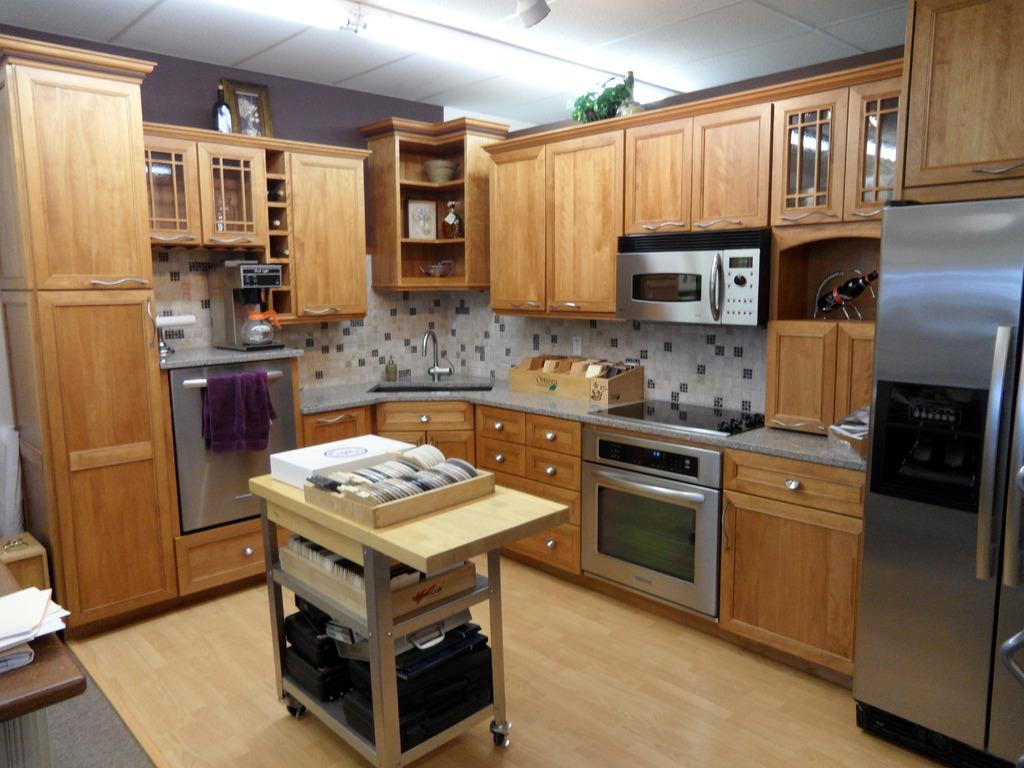cabinet_door: (38, 303, 164, 613), (16, 70, 146, 300), (916, 25, 1024, 190), (287, 153, 365, 314), (550, 160, 616, 307), (772, 101, 841, 225), (492, 164, 542, 310), (694, 122, 764, 226), (770, 321, 826, 431), (846, 94, 892, 224), (632, 136, 690, 236), (744, 458, 850, 503), (835, 332, 875, 430), (178, 534, 264, 578), (382, 401, 470, 428), (524, 422, 578, 452), (478, 444, 520, 474), (528, 457, 578, 482), (483, 408, 519, 438)
handle: (974, 332, 1004, 588), (1006, 351, 1024, 589), (91, 273, 152, 292), (770, 415, 824, 436), (780, 208, 842, 226), (966, 161, 1024, 180), (694, 213, 748, 230), (843, 201, 879, 220), (640, 222, 690, 234), (304, 301, 338, 318), (545, 296, 579, 310), (510, 296, 540, 310), (493, 444, 507, 470), (238, 542, 254, 564), (545, 461, 561, 481), (785, 478, 801, 496), (542, 428, 556, 447), (488, 420, 506, 434), (420, 410, 430, 424)
